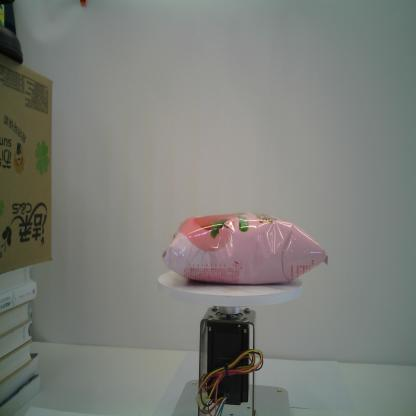Puffed Food: (160, 212, 330, 286)
